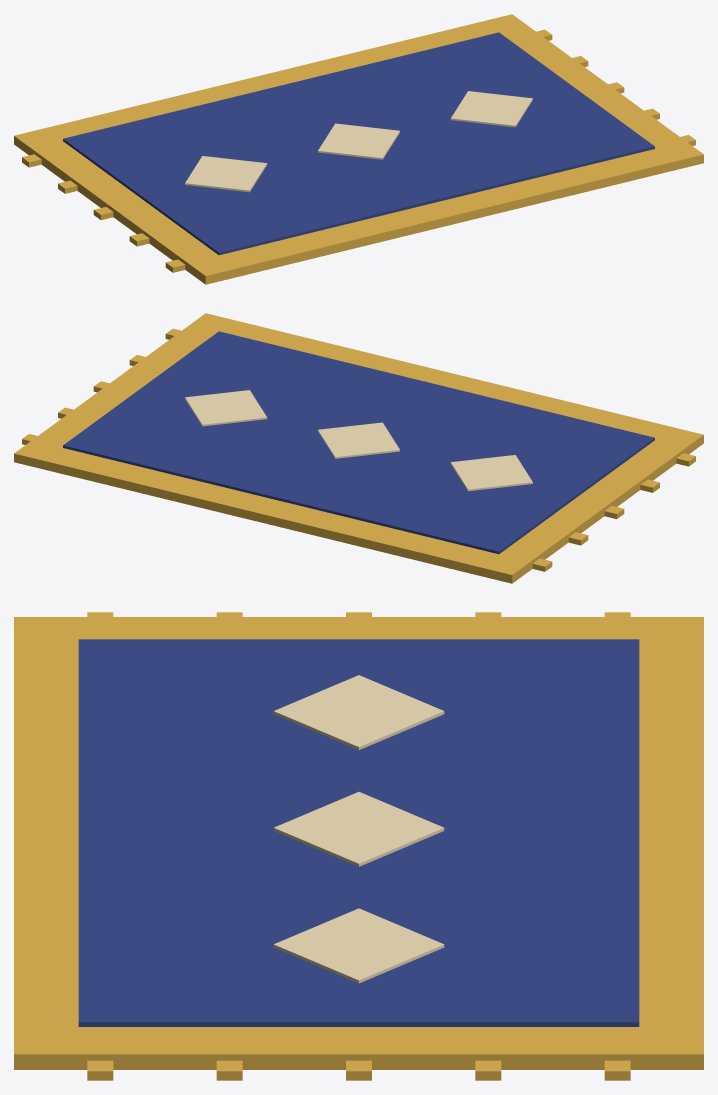
Rendered from b-rug-indigo.glb.
The picture shows the model from 3 angles, top to bottom: view 1: azimuth 30°, elevation 25°; view 2: azimuth 150°, elevation 25°; view 3: azimuth 270°, elevation 25°; orthographic projection. The views are drawn at different scales.
Parts seen in each view (by area): view 1: b-rug-indigo; view 2: b-rug-indigo; view 3: b-rug-indigo.
Part boxes in pixels (left/top/right/bottom): b-rug-indigo: left=14, top=14, right=703, bottom=284; b-rug-indigo: left=14, top=313, right=703, bottom=583; b-rug-indigo: left=14, top=612, right=703, bottom=1080.
Bounding box in the file's own units: 1.26 × 0.03 × 0.8.
